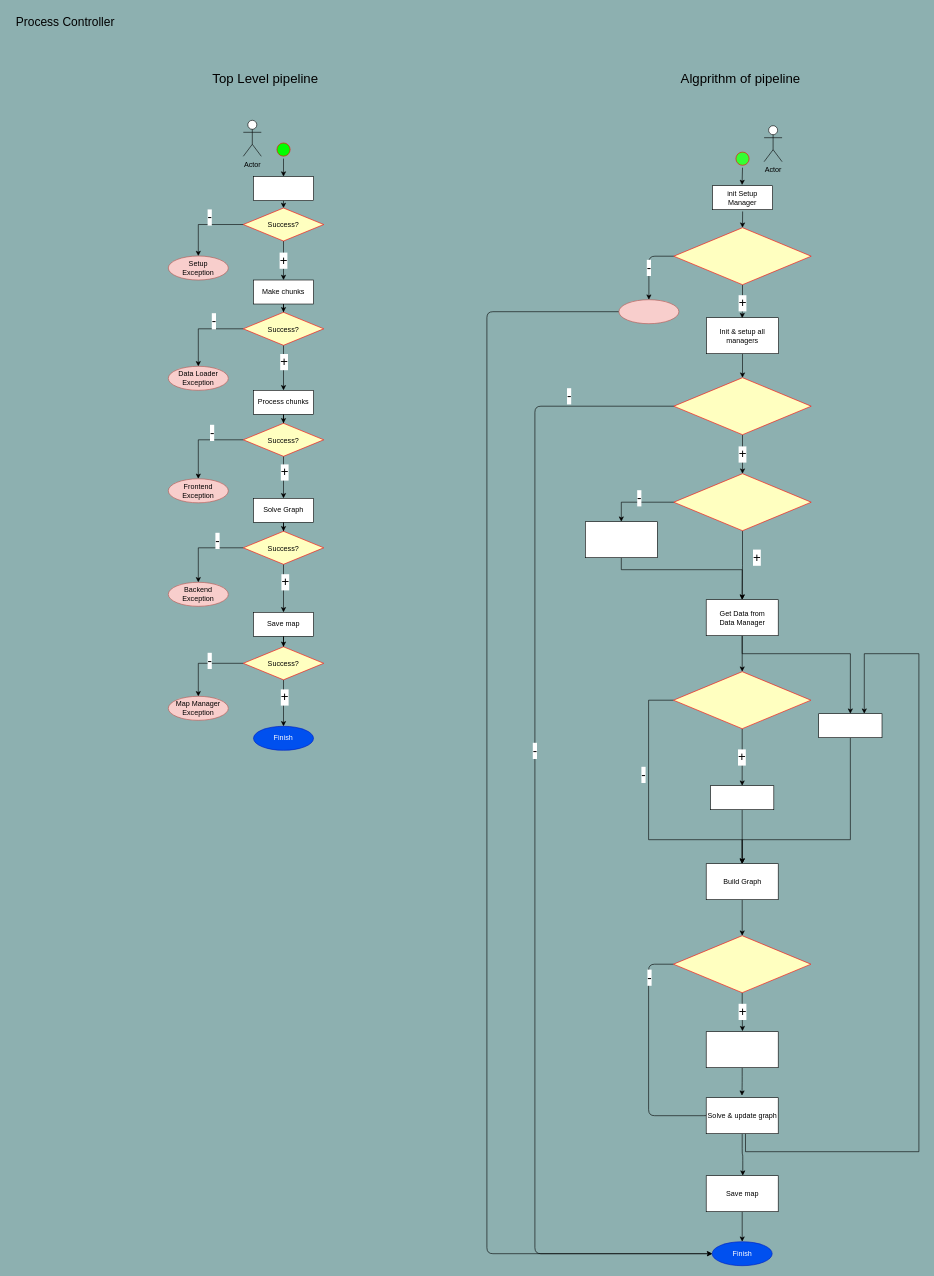
This 934x1276 diagram has some shape labels left out. Each missing label, with the centre of its shape:
"are anomalies present" goes at [742,964].
"Check system consistency/ minimum requirenments" goes at [742,256].
"Detect Loops" goes at [850,725].
"Exception" goes at [648,311].
"Is data available" goes at [742,406].
"Is Enough RAM & Graph is active" goes at [742,502].
"Is solver busy" goes at [742,700].
"Remove anomalies" goes at [742,1049].
"Setup System" goes at [283,188].
"Sparcify/Marginilize Graph" goes at [621,539].
"Wait for solver" goes at [742,797].
